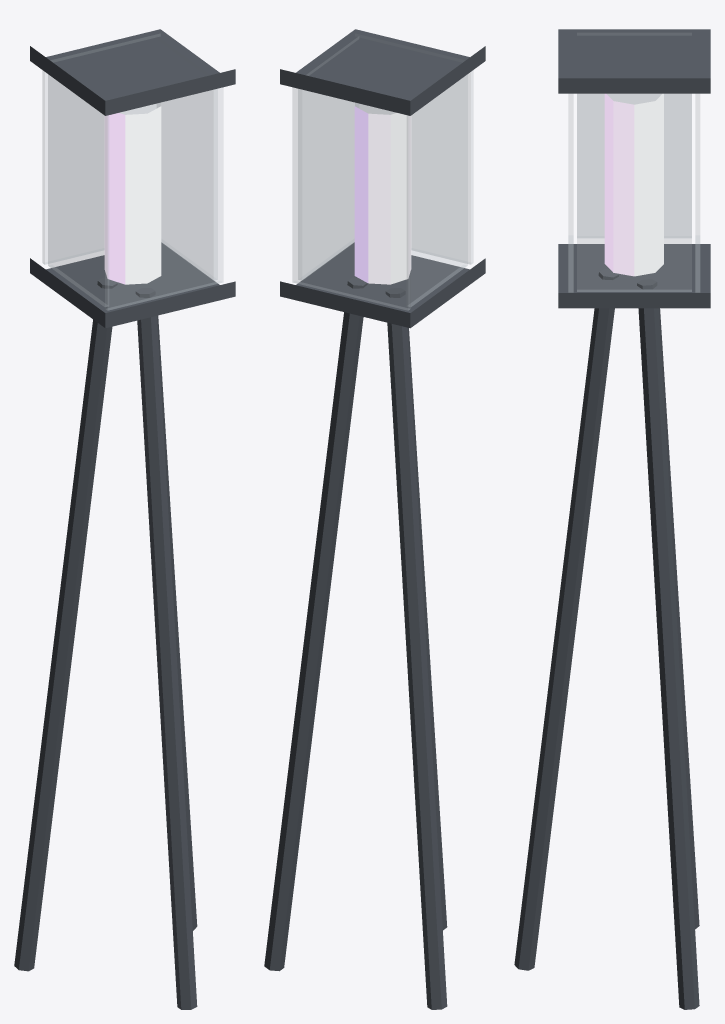
File: ext_violet_field_lamp_03.glb
The picture shows the model from 3 angles, left to right: view 1: azimuth 30°, elevation 25°; view 2: azimuth 150°, elevation 25°; view 3: azimuth 270°, elevation 25°; orthographic projection.
Visible parts, largest first — view 1: Panes, Legs, Lantern_Plates, Violet_Core; view 2: Panes, Legs, Lantern_Plates, Violet_Core; view 3: Legs, Panes, Lantern_Plates, Violet_Core.
Boxes of the visible parts, x1=… form: Panes: x1=42, y1=34, x2=223, y2=310; Legs: x1=14, y1=277, x2=197, y2=1009; Lantern_Plates: x1=30, y1=29, x2=235, y2=328; Violet_Core: x1=104, y1=106, x2=161, y2=284; Panes: x1=292, y1=34, x2=473, y2=310; Legs: x1=264, y1=277, x2=447, y2=1009; Lantern_Plates: x1=280, y1=29, x2=485, y2=328; Violet_Core: x1=354, y1=106, x2=411, y2=284; Legs: x1=514, y1=269, x2=699, y2=1009; Panes: x1=568, y1=33, x2=699, y2=292; Lantern_Plates: x1=558, y1=29, x2=710, y2=308; Violet_Core: x1=604, y1=93, x2=663, y2=276.
Bounding box in the file's own units: 0.2465 × 1.2 × 0.2319.
